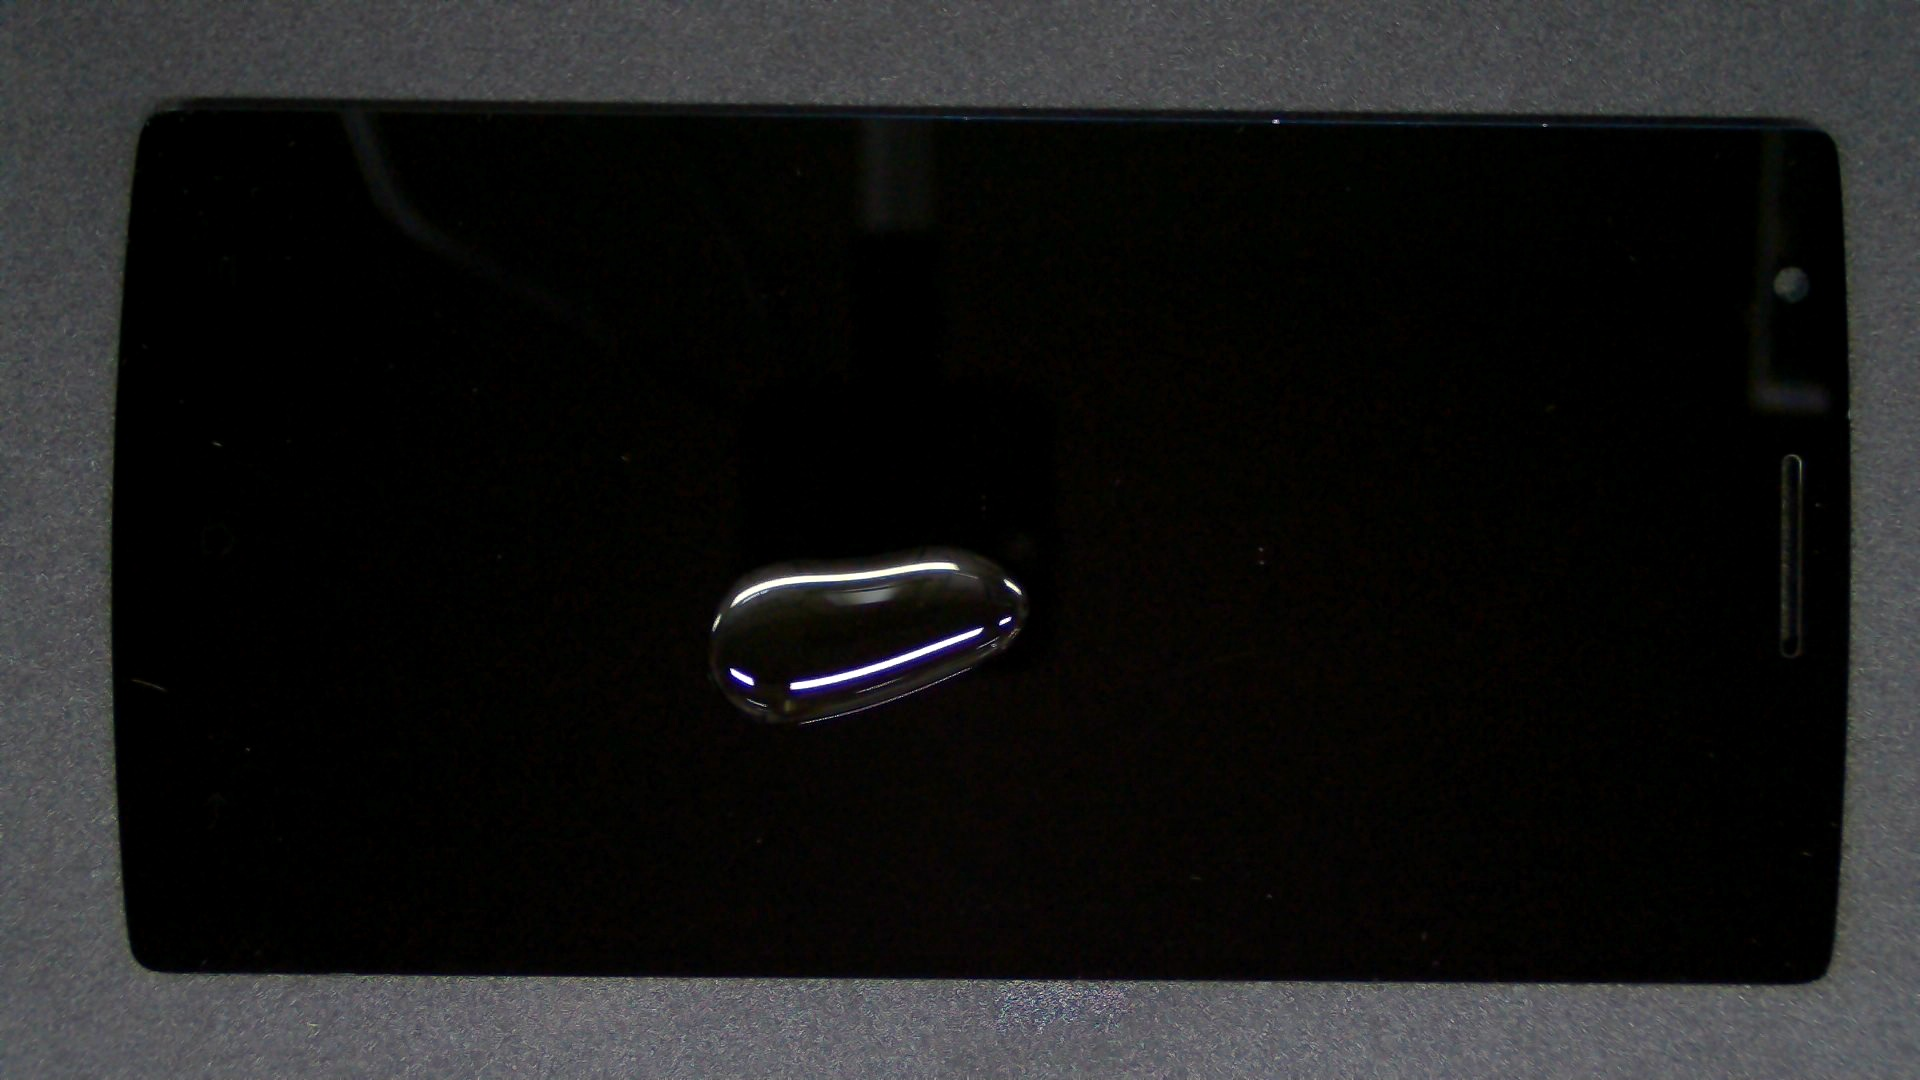oil: (476, 272, 1425, 815)
